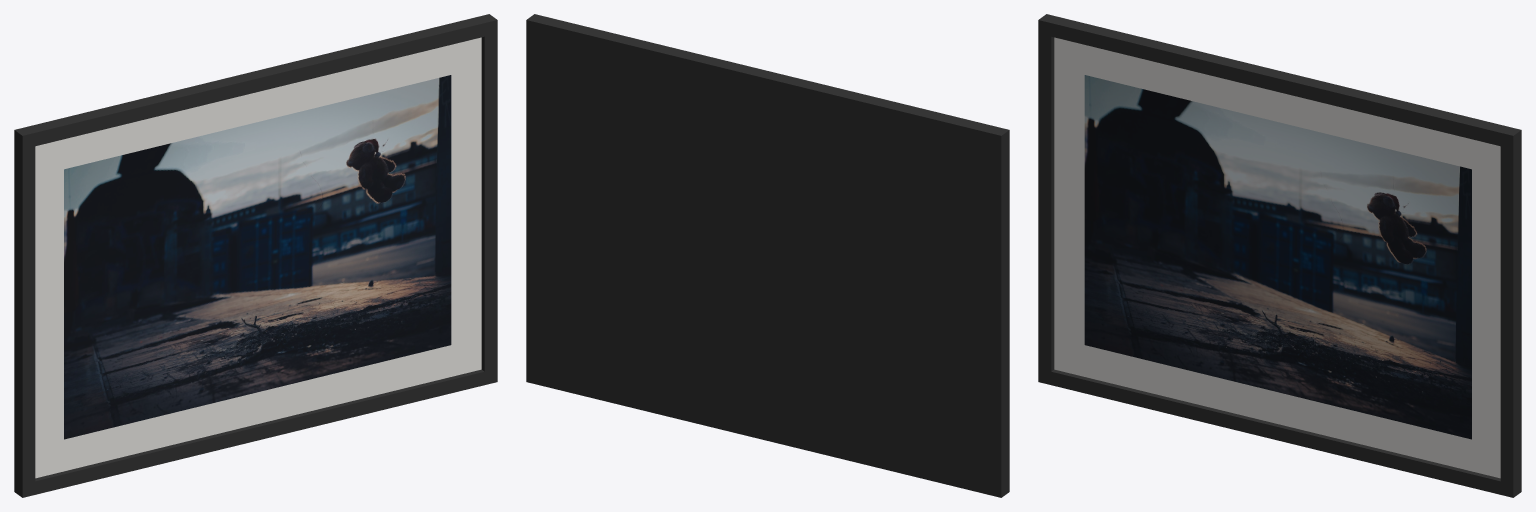
File: nallen-60.gltf
The picture shows the model from 3 angles, left to right: view 1: azimuth 30°, elevation 25°; view 2: azimuth 150°, elevation 25°; view 3: azimuth 330°, elevation 25°; orthographic projection.
Parts seen in each view (by area): view 1: tavla; view 2: tavla; view 3: tavla.
Part boxes in pixels (<box>): tavla: <box>14,14,497,497</box>; tavla: <box>526,14,1009,497</box>; tavla: <box>1038,14,1521,497</box>.
Size of the model in its own units: 0.736 by 0.536 by 0.022.
3 materials, 1 textured.
